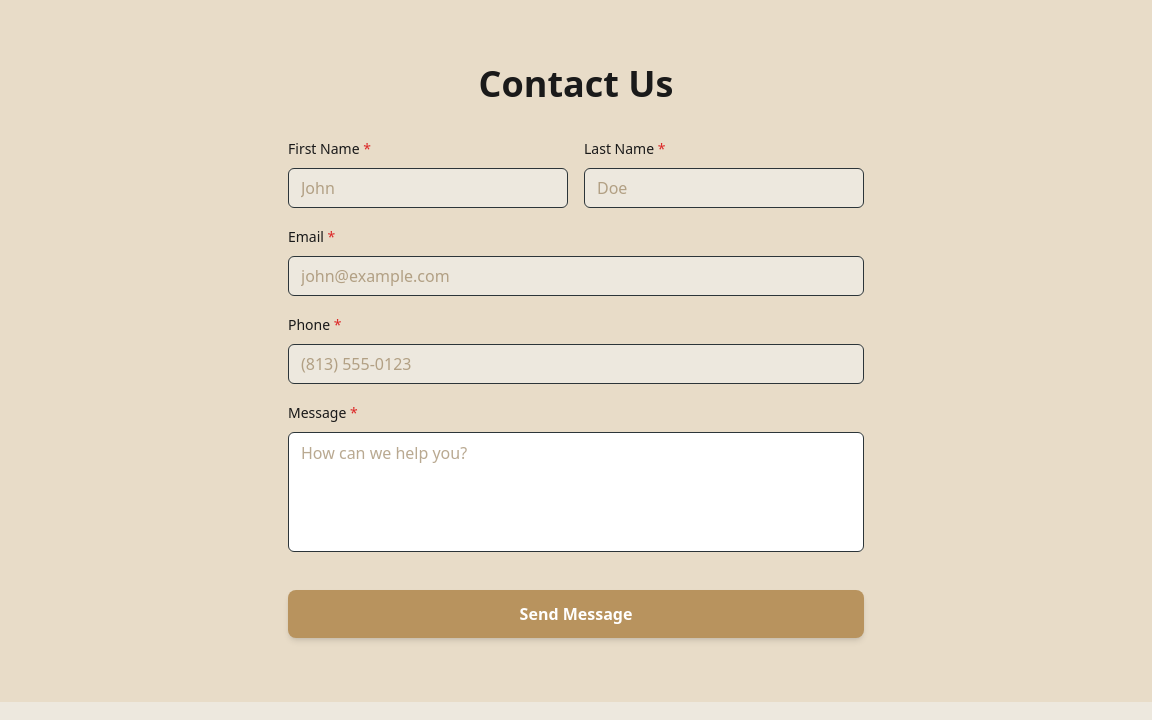
ContactForm Component › Validation Tests › shows validation error for message less than 10 characters
Step 1. Type "Short" into the text box labelled "Message *" → x=576, y=492, box [288,432,864,552]
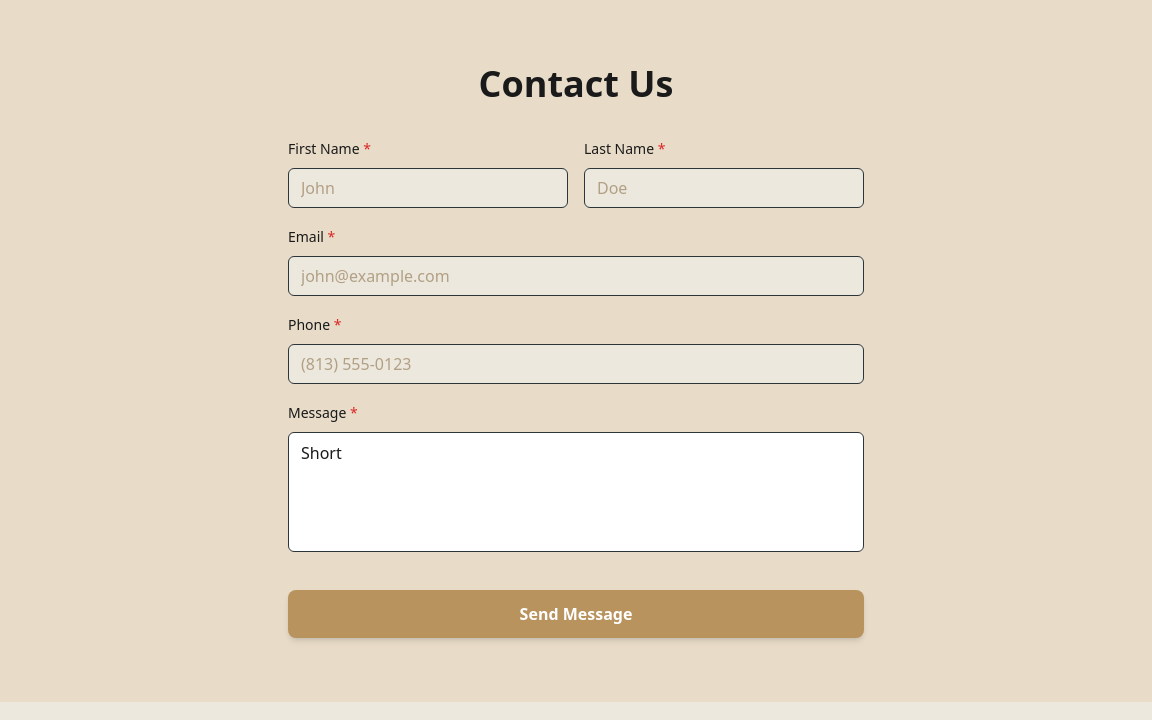
Step 2. Leave the text box labelled "Message *", box [288,432,864,552]
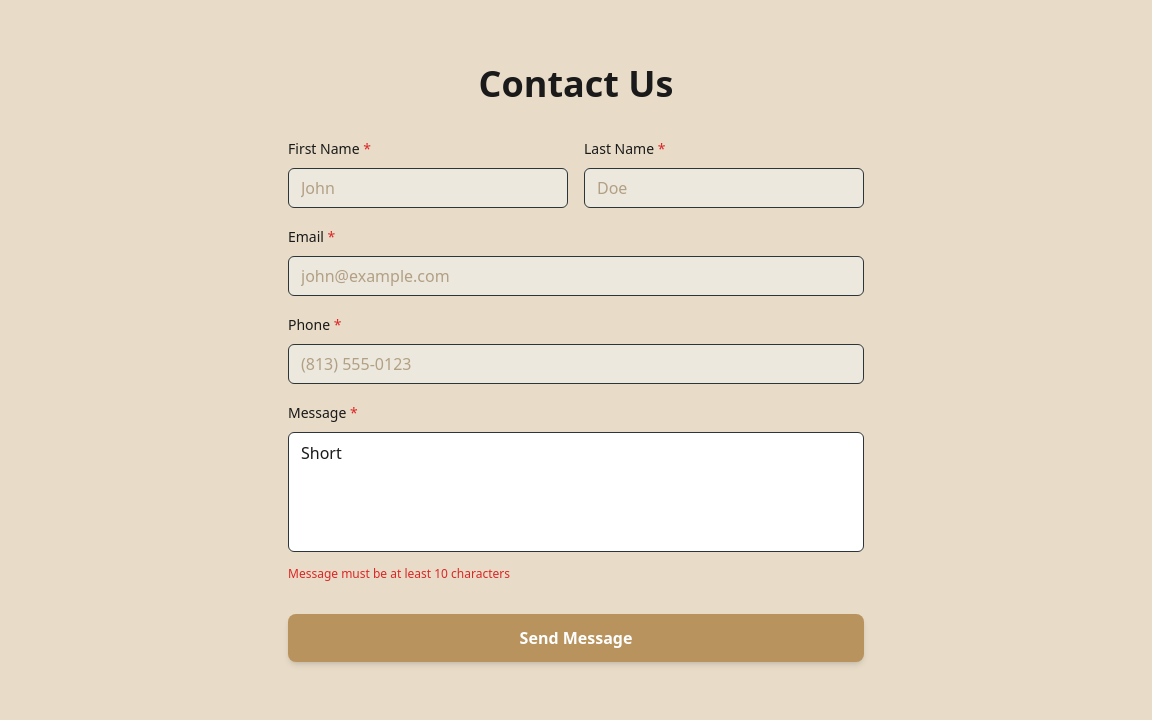
Now the text "Message must be at least 10 characters" is shown, box [288,565,510,582]
